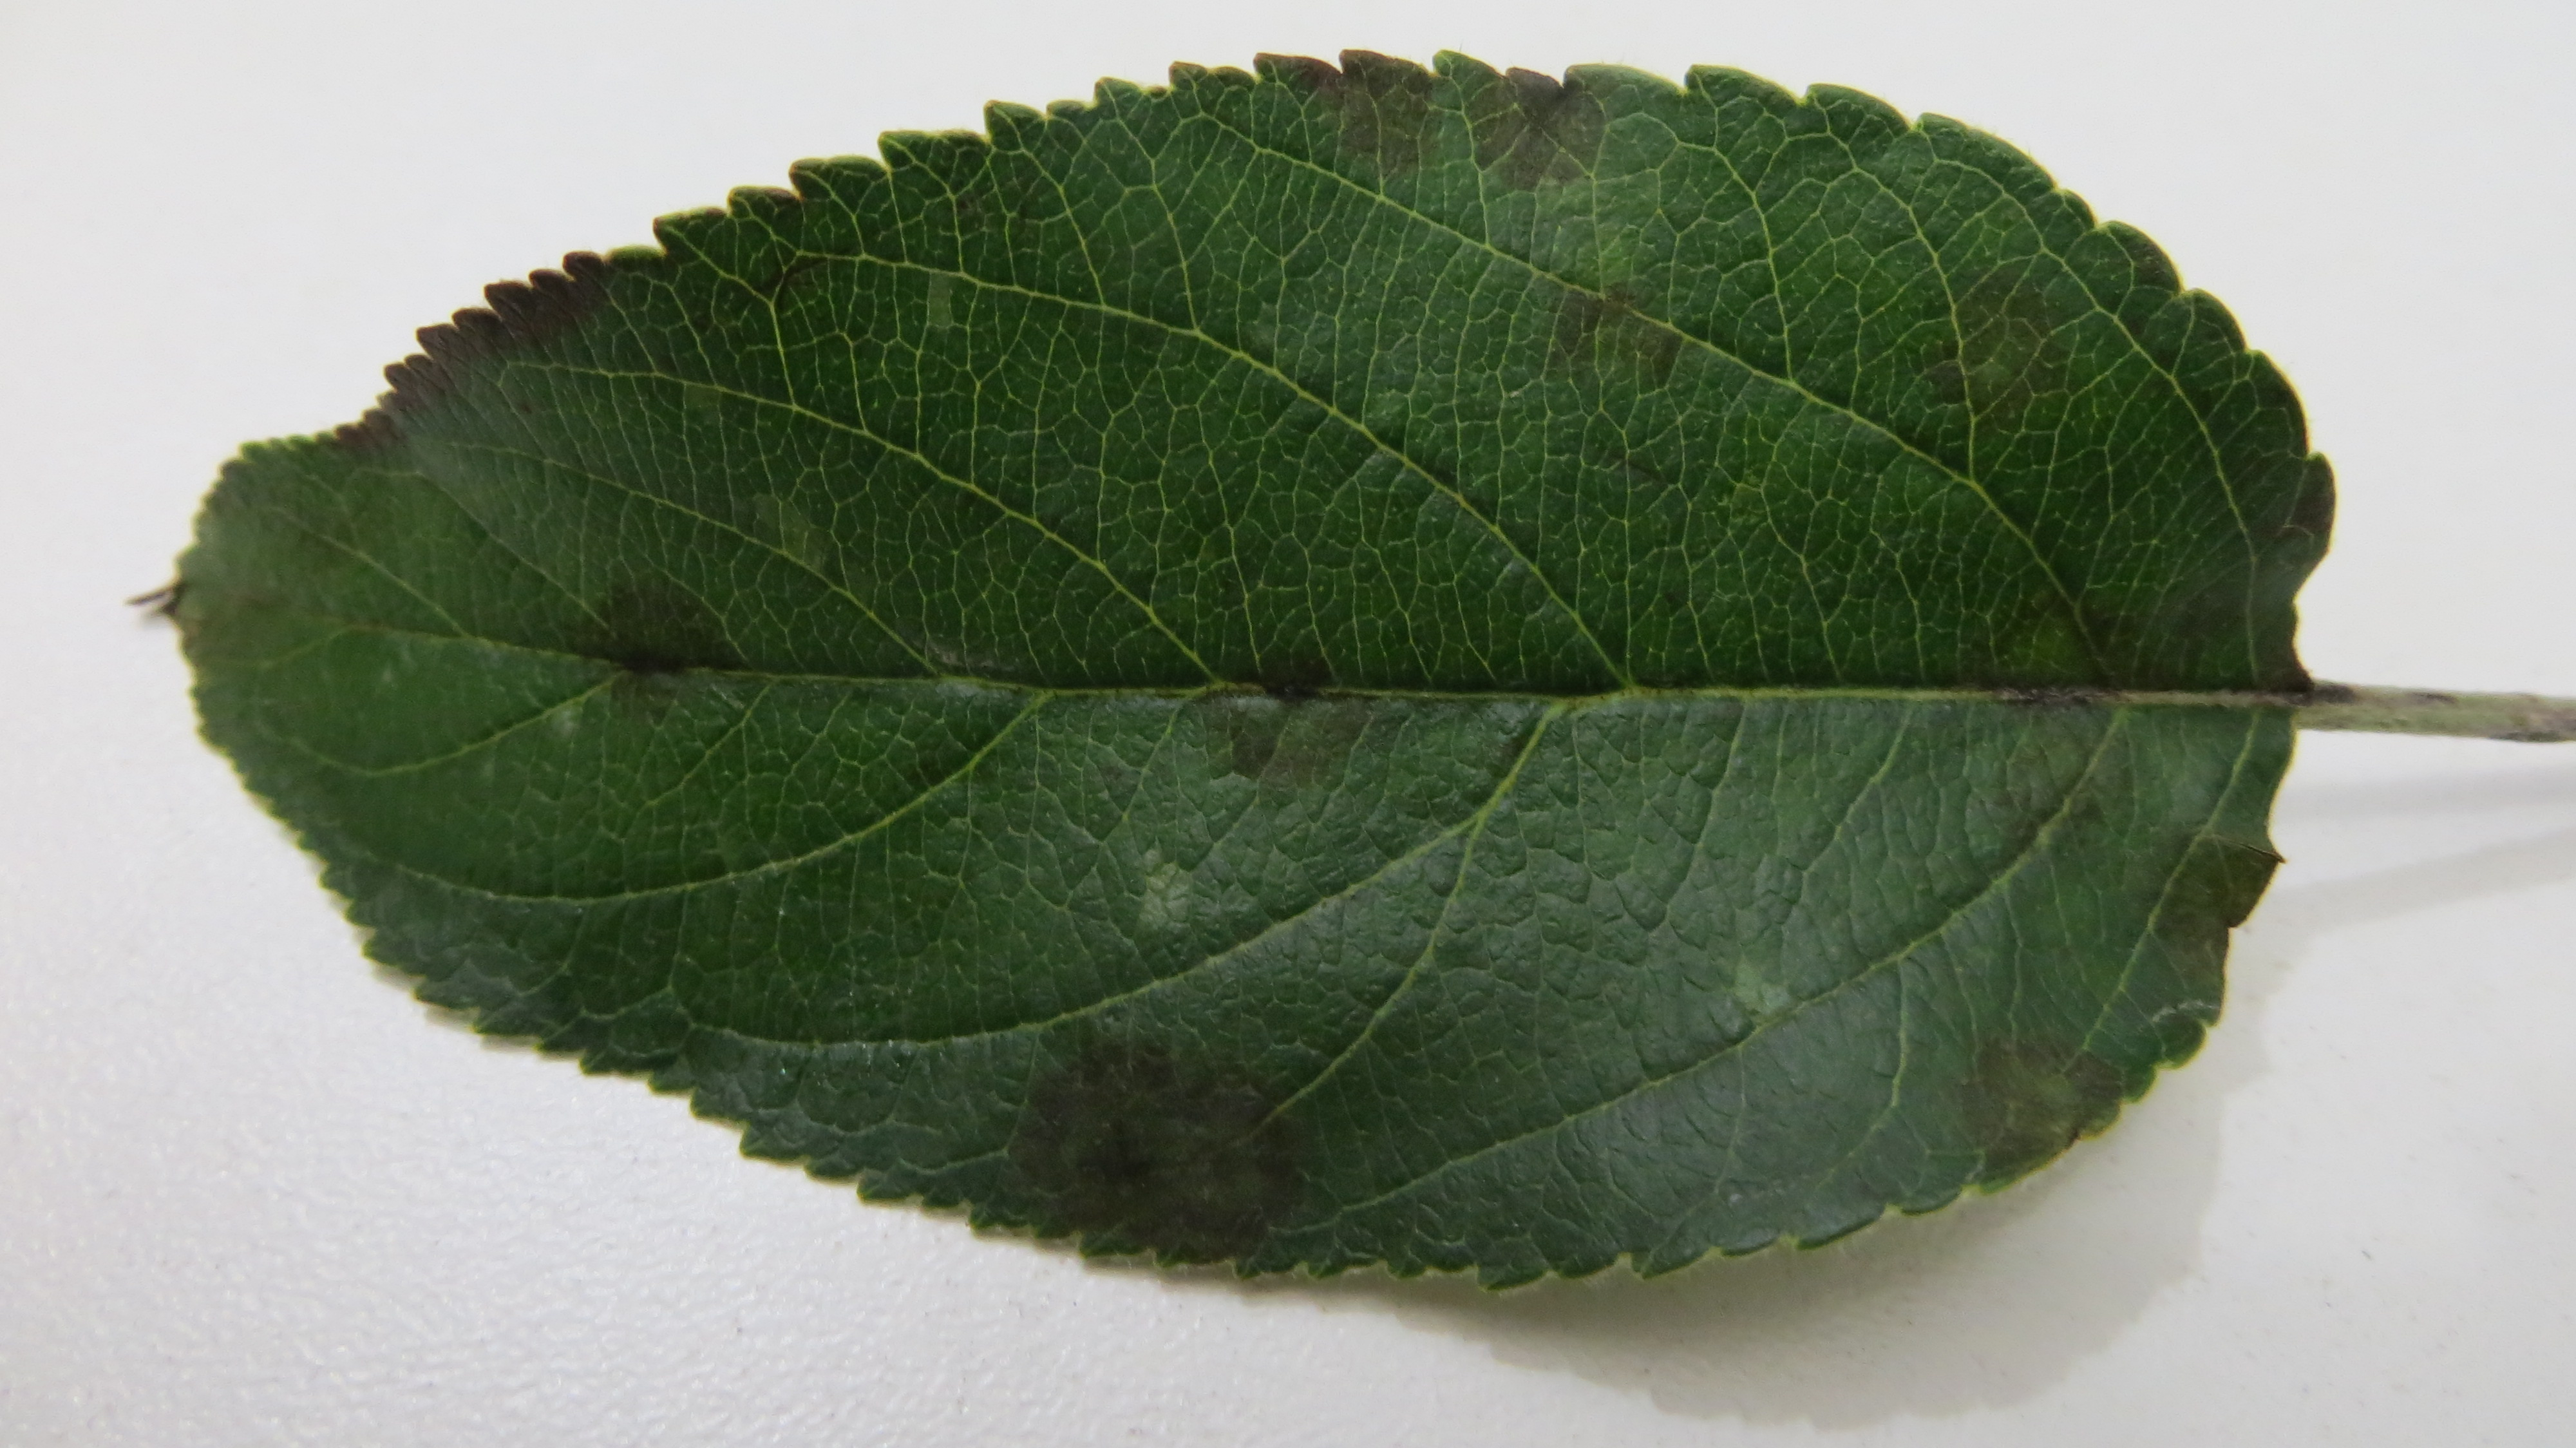sarna: (989, 1030, 1309, 1264), (1916, 267, 2061, 457), (1522, 251, 1695, 402), (554, 572, 736, 712), (1985, 584, 2155, 731), (1960, 1020, 2123, 1170), (1192, 637, 1368, 766), (1265, 41, 1431, 175), (2144, 816, 2268, 979), (1483, 80, 1610, 200), (1976, 761, 2102, 859)
